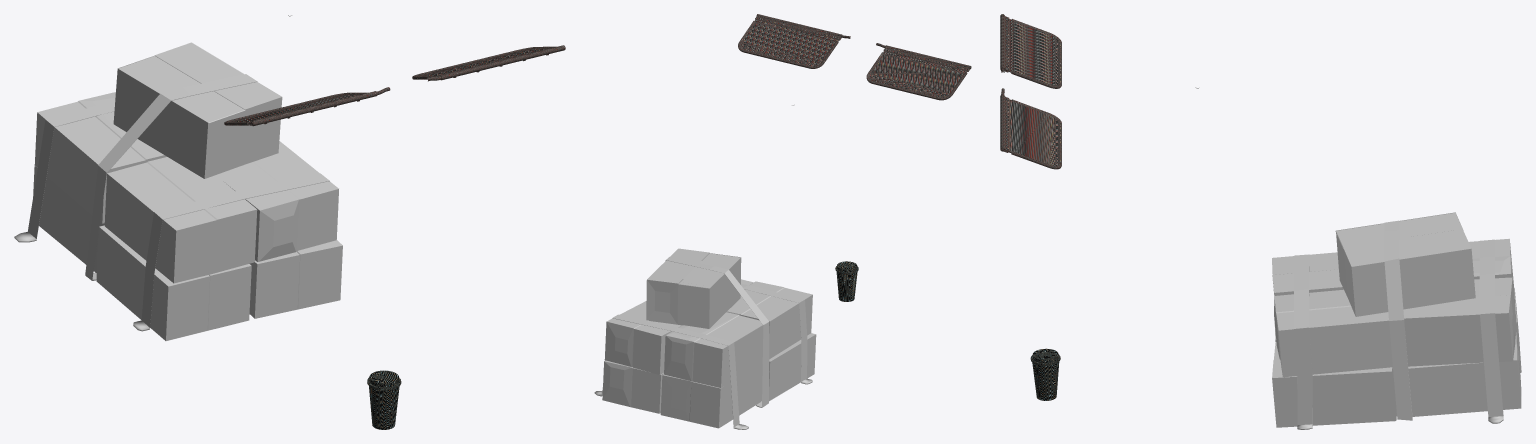
File: Models.gltf
The picture shows the model from 3 angles, left to right: view 1: azimuth 30°, elevation 25°; view 2: azimuth 150°, elevation 25°; view 3: azimuth 270°, elevation 25°; orthographic projection. The views are drawn at different scales.
Parts seen in each view (by area): view 1: CARGO, JPL_VISOR, COCKPIT_COFFEE_R; view 2: CARGO, JPL_VISOR, COCKPIT_COFFEE_R; view 3: CARGO, JPL_VISOR, COCKPIT_COFFEE_R.
Boxes of the visible parts, x1,y1,x2,y2 form: CARGO: (14, 42, 342, 340); JPL_VISOR: (224, 45, 565, 126); COCKPIT_COFFEE_R: (367, 370, 401, 429); CARGO: (594, 248, 816, 429); JPL_VISOR: (738, 14, 971, 100); COCKPIT_COFFEE_R: (835, 261, 858, 301); CARGO: (1272, 212, 1521, 429); JPL_VISOR: (1000, 14, 1061, 169); COCKPIT_COFFEE_R: (1030, 348, 1060, 400).
Size of what is drawn, in the model's own units: 0.8598 by 0.9472 by 1.41.
